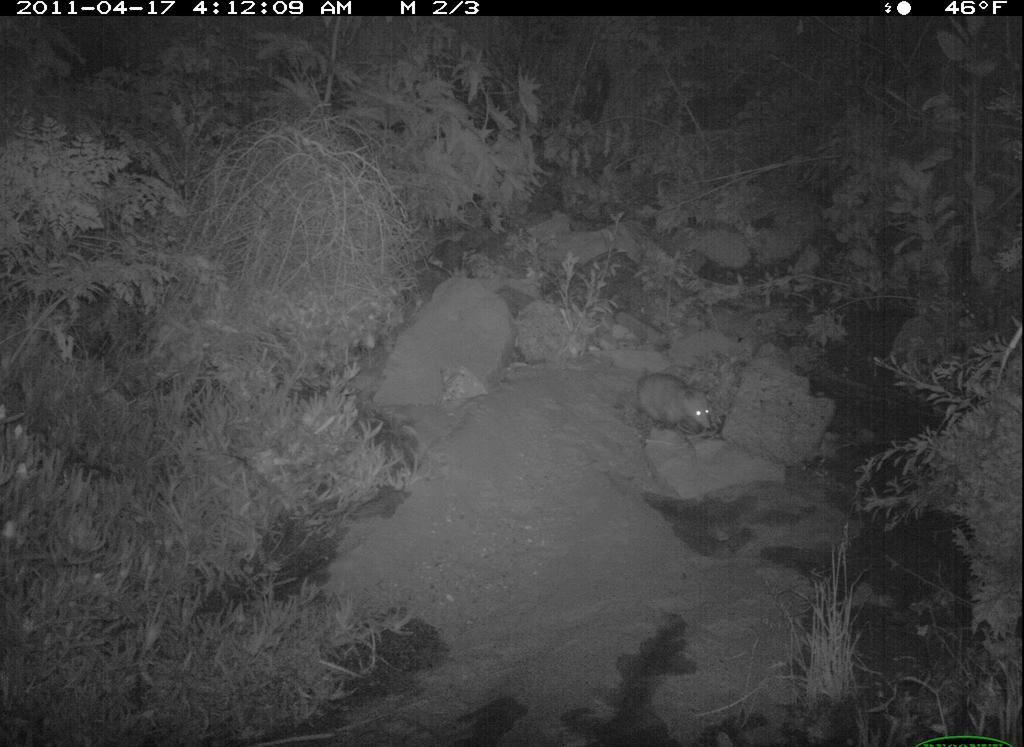opossum: (609, 353, 735, 447)
